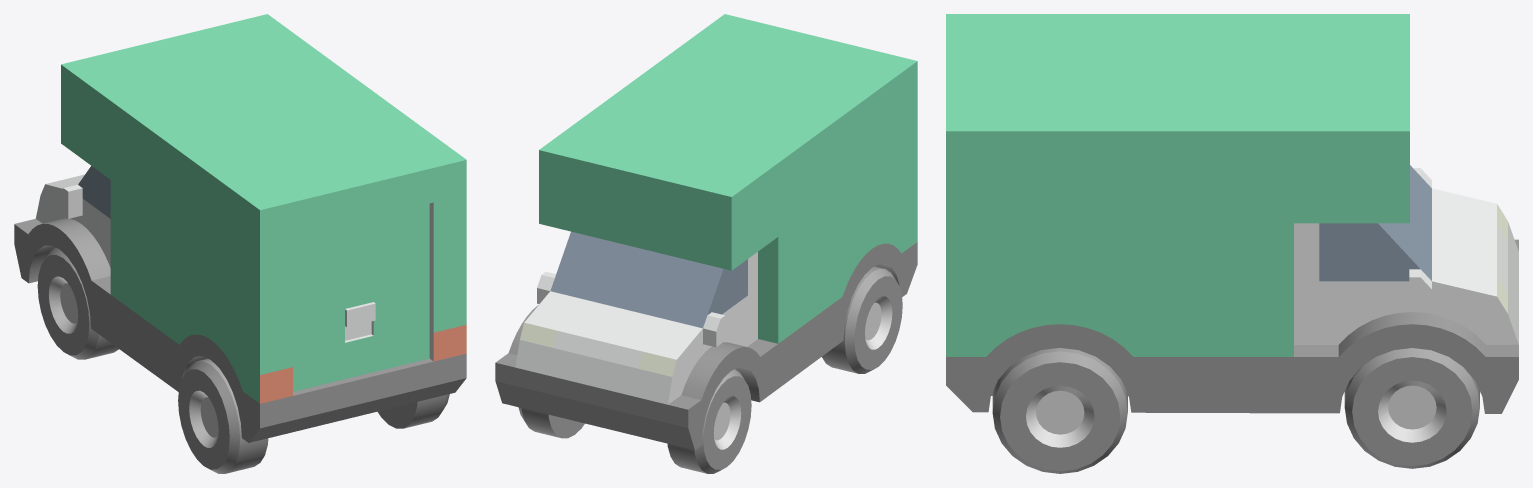
File: carDelivery.gltf
The picture shows the model from 3 angles, left to right: view 1: azimuth 30°, elevation 25°; view 2: azimuth 150°, elevation 25°; view 3: azimuth 270°, elevation 25°; orthographic projection. The views are drawn at different scales.
Parts seen in each view (by area): view 1: body 1, doorRight, doorLeft, wheelBackLeft 1, wheelFrontLeft 1, wheelBackRight 1; view 2: body 1, wheelBackLeft 1, wheelFrontLeft 1, wheelFrontRight 1; view 3: body 1, wheelBackRight 1, wheelFrontRight 1.
Part boxes in pixels (<box>): body 1: <box>14,14,466,442</box>; doorRight: <box>357,203,429,375</box>; doorLeft: <box>293,220,361,391</box>; wheelBackLeft 1: <box>178,358,268,473</box>; wheelFrontLeft 1: <box>37,247,118,359</box>; wheelBackRight 1: <box>377,394,449,428</box>; body 1: <box>495,14,917,450</box>; wheelBackLeft 1: <box>822,266,902,373</box>; wheelFrontLeft 1: <box>667,369,751,473</box>; wheelFrontRight 1: <box>518,407,584,438</box>; body 1: <box>946,14,1518,413</box>; wheelBackRight 1: <box>992,348,1127,473</box>; wheelFrontRight 1: <box>1344,348,1479,468</box>.
Size of the model in its own units: 0.615 by 0.7866 by 1.18.
